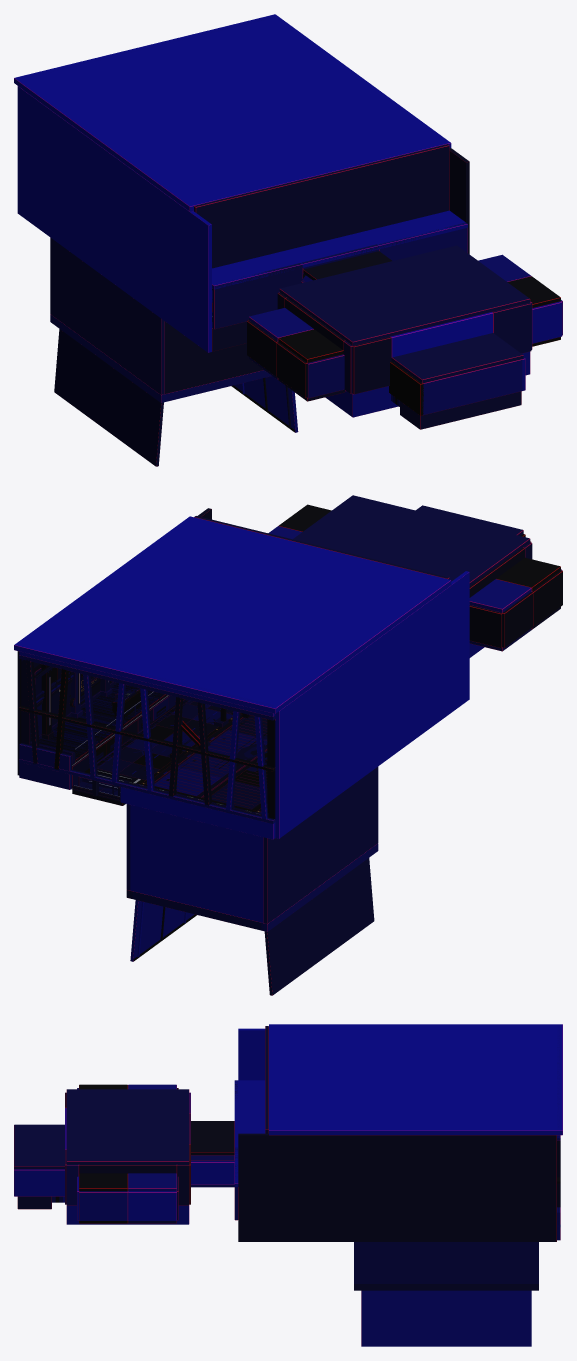
The model's file is ekster_hub.glb.
3 views of the same model, one above another, from view 1: azimuth 30°, elevation 25°; view 2: azimuth 150°, elevation 25°; view 3: azimuth 270°, elevation 25° (orthographic). The views are drawn at different scales.
Visible parts, largest first — view 1: Hangar_Shell, Hangar_Roof, Bridge_Shell, Workdeck_Roof, Workdeck_Shell, Bridge_Roof; view 2: Hangar_Shell, Hangar_Roof, Hangar_Glass, Workdeck_Roof, Workdeck_Shell, Hangar_Detail, BayDoor_R, BayDoor_L, Hangar_Props, Bridge_Shell; view 3: Hangar_Shell, Hangar_Roof, Workdeck_Roof, Workdeck_Shell, Bridge_Roof, Bridge_Shell.
Boxes of the visible parts, x1,y1,x2,y2 form: Hangar_Shell: [17, 16, 469, 466]; Hangar_Roof: [14, 14, 451, 211]; Bridge_Shell: [194, 144, 467, 351]; Workdeck_Roof: [249, 245, 560, 383]; Workdeck_Shell: [247, 291, 562, 429]; Bridge_Roof: [212, 210, 467, 289]; Hangar_Shell: [17, 508, 469, 995]; Hangar_Roof: [14, 516, 451, 722]; Hangar_Glass: [20, 659, 274, 819]; Workdeck_Roof: [268, 495, 560, 612]; Workdeck_Shell: [469, 534, 562, 657]; Hangar_Detail: [34, 666, 258, 961]; BayDoor_R: [155, 716, 266, 797]; BayDoor_L: [202, 750, 266, 809]; Hangar_Props: [70, 674, 228, 795]; Bridge_Shell: [194, 516, 449, 579]; Hangar_Shell: [238, 1025, 560, 1346]; Hangar_Roof: [269, 1024, 562, 1135]; Workdeck_Roof: [14, 1084, 189, 1191]; Workdeck_Shell: [14, 1088, 190, 1224]; Bridge_Roof: [191, 1080, 265, 1186]; Bridge_Shell: [191, 1026, 268, 1220].
Size of what is drawn, in the model's own units: 20.6 by 23.04 by 44.8.
